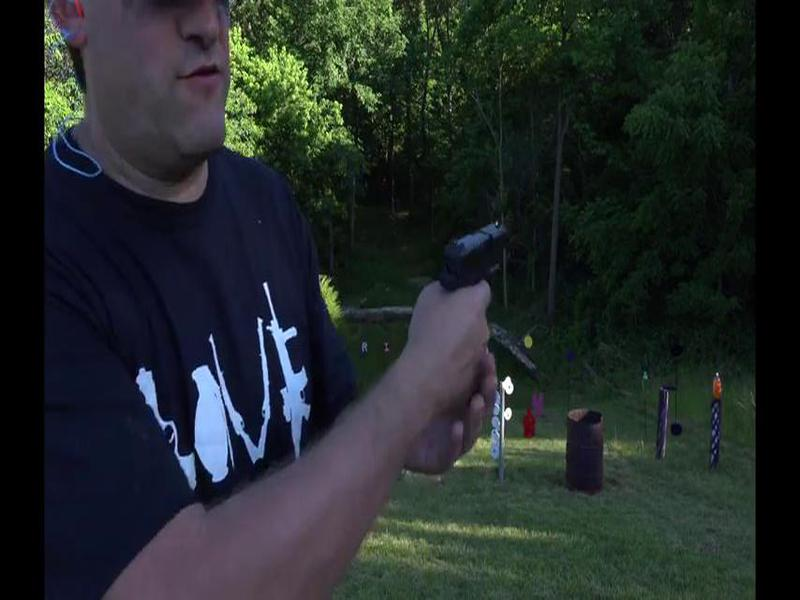Pistola: (427, 214, 529, 329)
